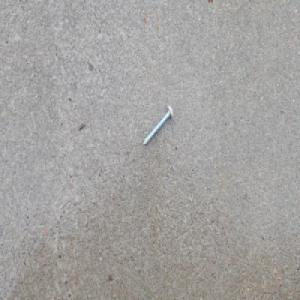Nail: (141, 104, 173, 147)
